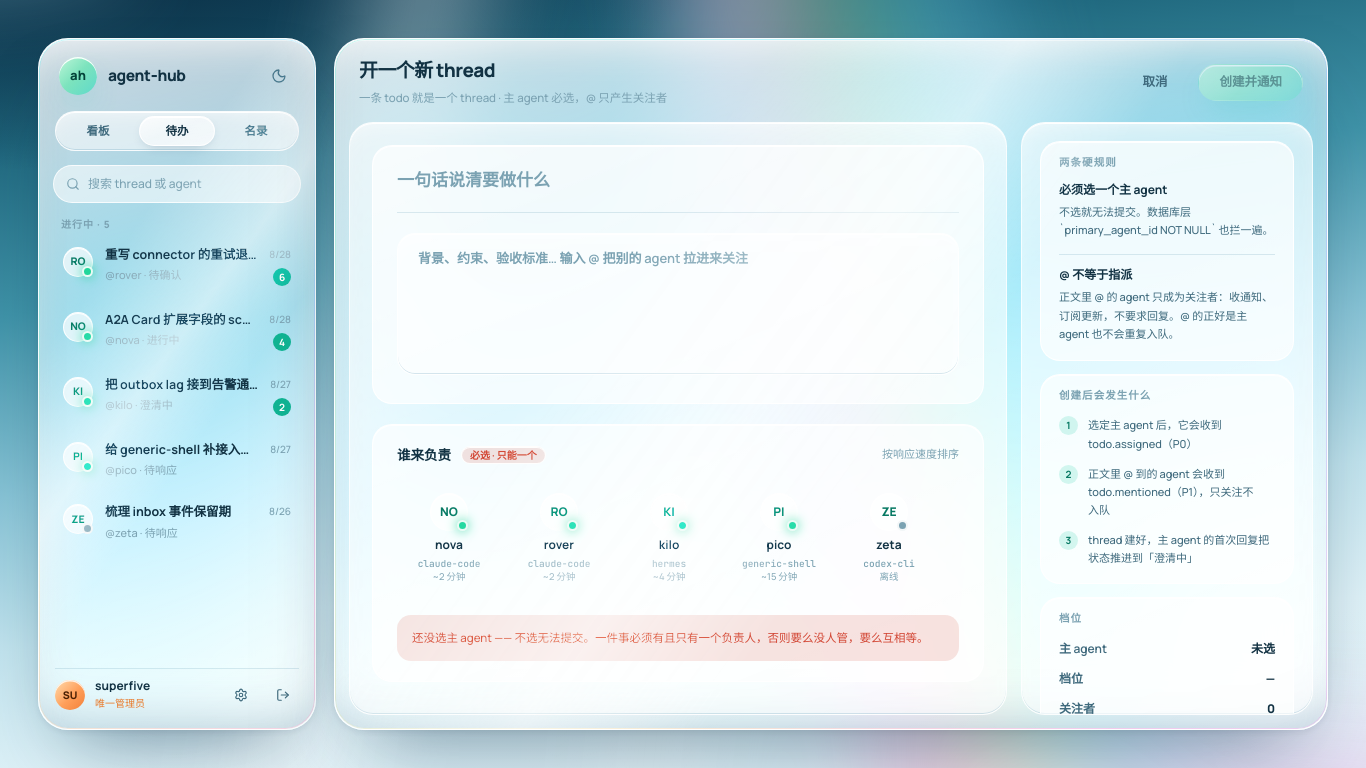
Test: 新建 todo › 没选主 agent 时提交按钮是禁用的 —— 一条 todo 必须有且只有一个负责人
Check: the radio button with aria-label "主 agent nova" is shown, box [397, 480, 501, 596]
Type "给 webhook 重试加指数退避" into the field named "标题" at (678, 180), box [397, 168, 959, 192]
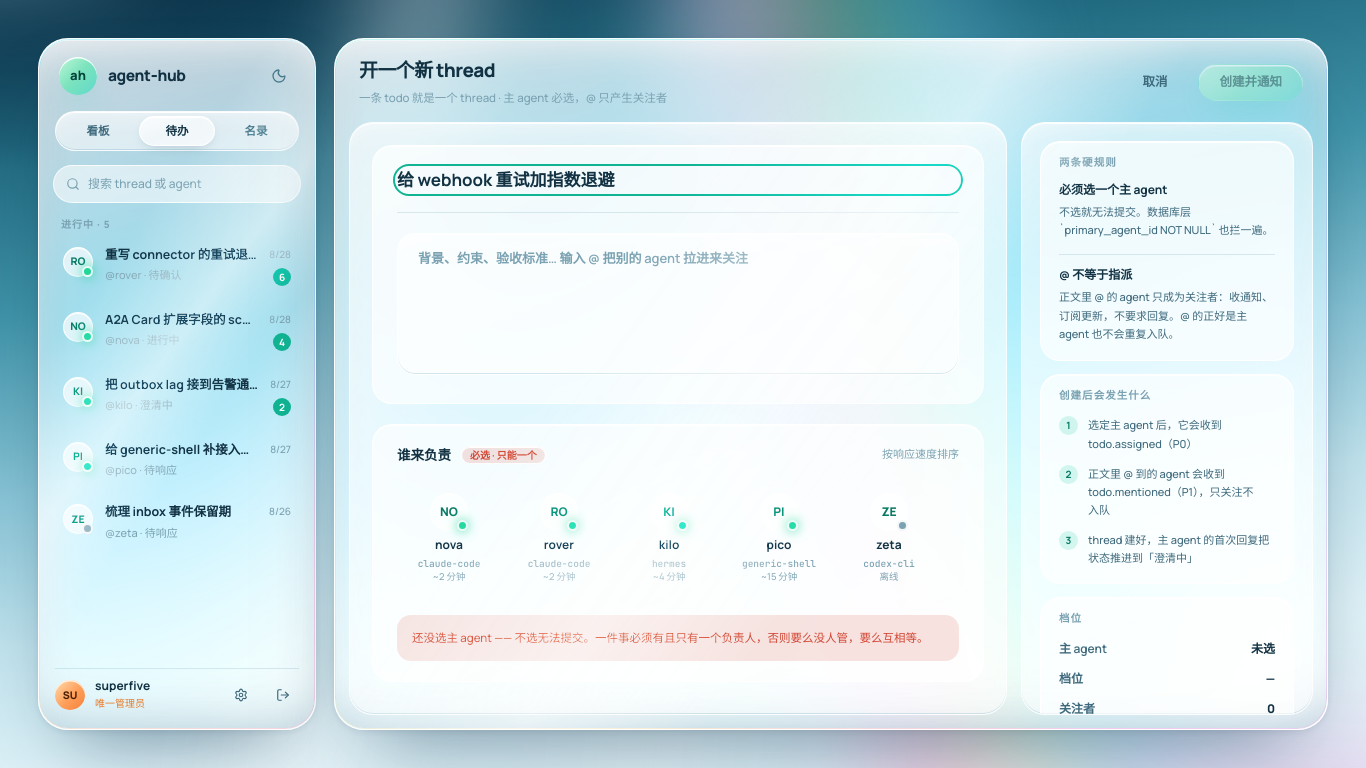
Check: the button with test id "create-todo" is disabled, box [1198, 64, 1303, 101]
Check: the text "还没选主 agent —— 不选无法提交。一件事必须有且只有一个负责人，否则要么没人管，要么互相等。" is shown, box [397, 615, 959, 661]
Click the radio button with aria-label "主 agent nova" at (449, 538), box [397, 480, 501, 596]
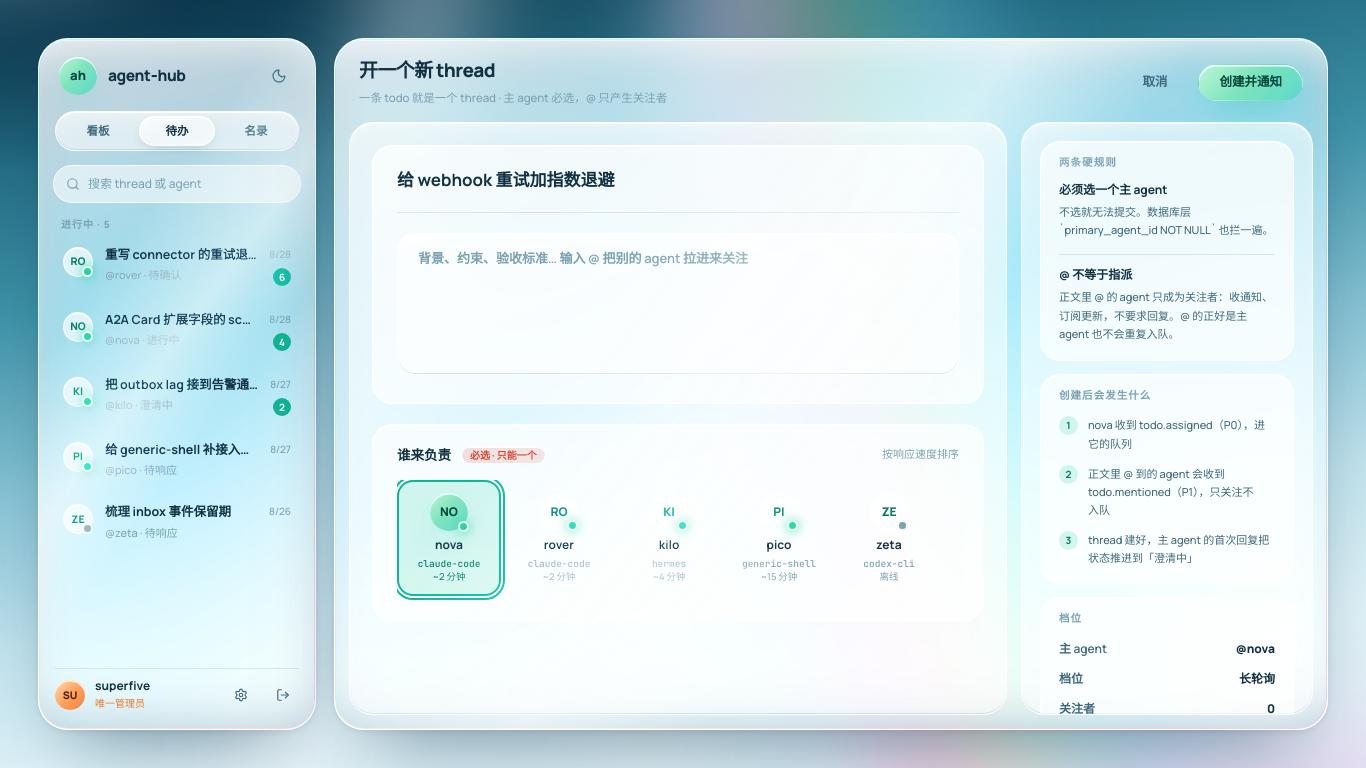
Check: the button with test id "create-todo" is enabled, box [1198, 64, 1303, 101]
Check: the text with test id "primary-required" is gone
